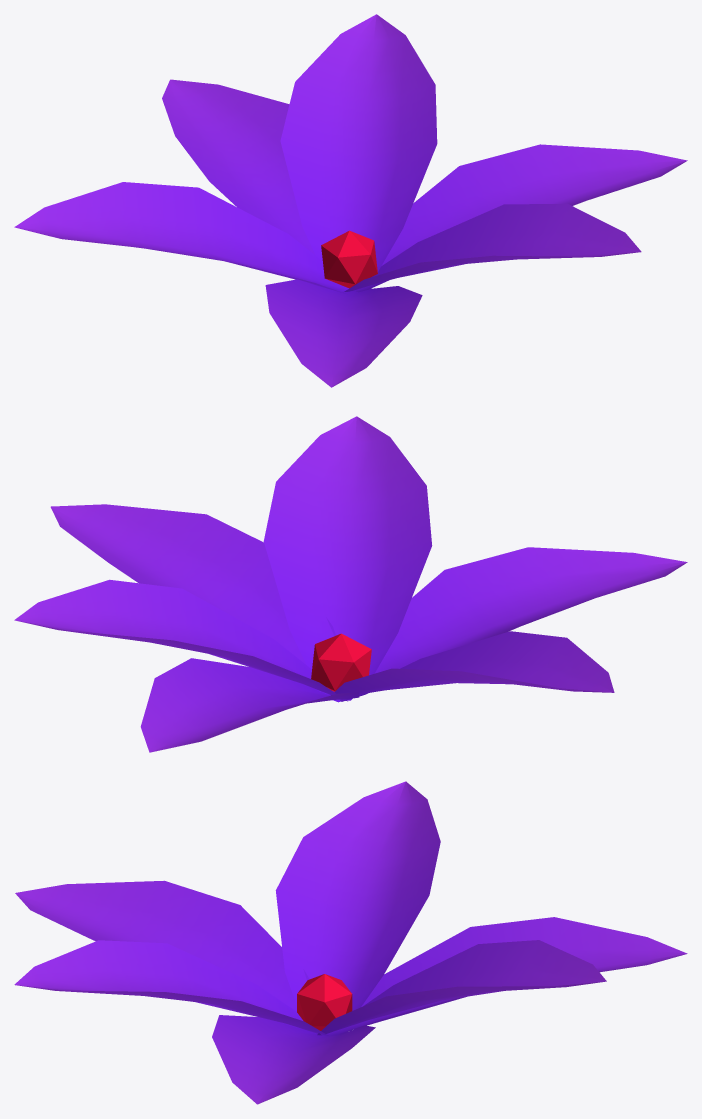
Rendered from Plant2.fbx.
The picture shows the model from 3 angles, top to bottom: view 1: azimuth 30°, elevation 25°; view 2: azimuth 150°, elevation 25°; view 3: azimuth 270°, elevation 25°; orthographic projection. The views are drawn at different scales.
Visible parts, largest first — view 1: Plant_Purple; view 2: Plant_Purple; view 3: Plant_Purple.
Part boxes in pixels (x1,y1,x2,y2): Plant_Purple: [14, 14, 687, 387]; Plant_Purple: [14, 416, 687, 752]; Plant_Purple: [14, 781, 687, 1104].
Size of the model in its own units: 111 by 23.85 by 106.
Materials: 1 (1 with a texture image).
